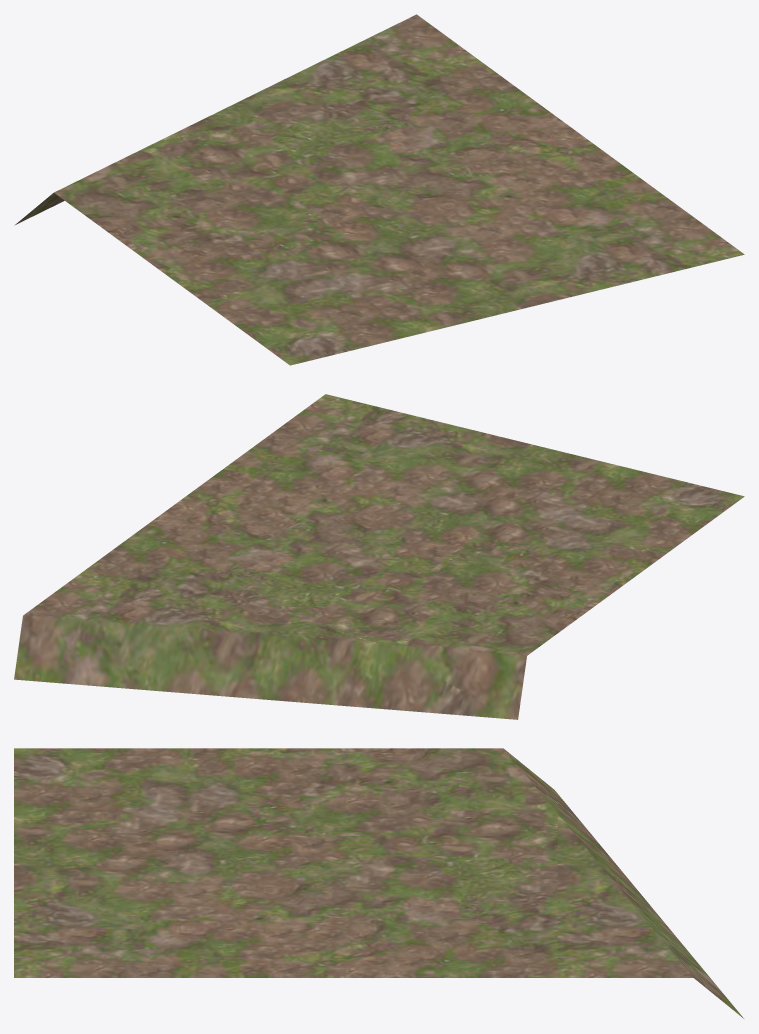
The model's file is ground2c.FBX.
The picture shows the model from 3 angles, top to bottom: view 1: azimuth 30°, elevation 25°; view 2: azimuth 150°, elevation 25°; view 3: azimuth 270°, elevation 25°; orthographic projection. The views are drawn at different scales.
Parts seen in each view (by area): view 1: ground2c; view 2: ground2c; view 3: ground2c.
Boxes of the visible parts, left/top/right/bottom form: ground2c: left=14, top=14, right=744, bottom=365; ground2c: left=14, top=394, right=744, bottom=719; ground2c: left=14, top=748, right=743, bottom=1018.
Bounding box in the file's own units: 207 × 20 × 269.
